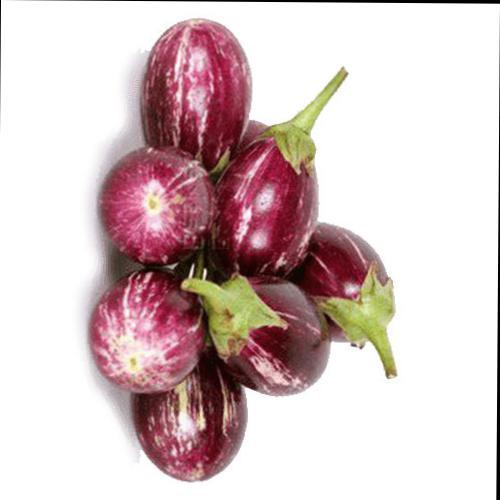eggplant: (83, 68, 396, 436)
